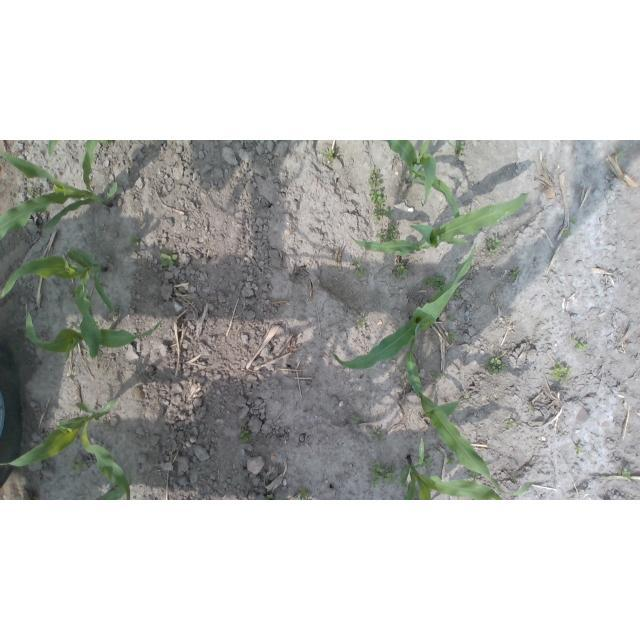Maize: (405, 323, 532, 498), (333, 243, 476, 371), (1, 248, 118, 361), (0, 399, 130, 500), (1, 140, 118, 238), (347, 193, 529, 256), (24, 306, 161, 363), (400, 438, 502, 500), (385, 140, 459, 218), (48, 140, 110, 158), (93, 485, 123, 500)
Weeds: (370, 461, 399, 488), (549, 362, 572, 383), (378, 221, 399, 244), (423, 273, 445, 293), (372, 203, 392, 222), (484, 236, 502, 256), (487, 358, 507, 375), (368, 169, 383, 190), (73, 455, 88, 474), (161, 253, 178, 267), (369, 190, 387, 203), (396, 262, 408, 279), (454, 140, 465, 156), (575, 339, 589, 351), (240, 428, 250, 444), (423, 452, 433, 468), (298, 487, 310, 500), (509, 268, 521, 281), (325, 147, 335, 161), (129, 236, 140, 247), (621, 467, 631, 479), (447, 331, 457, 341), (356, 268, 367, 277), (507, 420, 517, 429), (469, 471, 481, 478), (28, 188, 37, 197), (376, 431, 384, 441), (575, 443, 583, 453), (564, 229, 573, 237), (432, 373, 444, 379), (66, 288, 74, 296), (454, 288, 461, 297), (446, 458, 455, 465), (356, 318, 364, 325), (267, 493, 274, 500), (448, 315, 455, 321), (617, 151, 624, 157), (352, 416, 360, 421), (528, 405, 534, 411), (355, 258, 361, 264), (280, 497, 289, 500), (572, 219, 577, 224)
